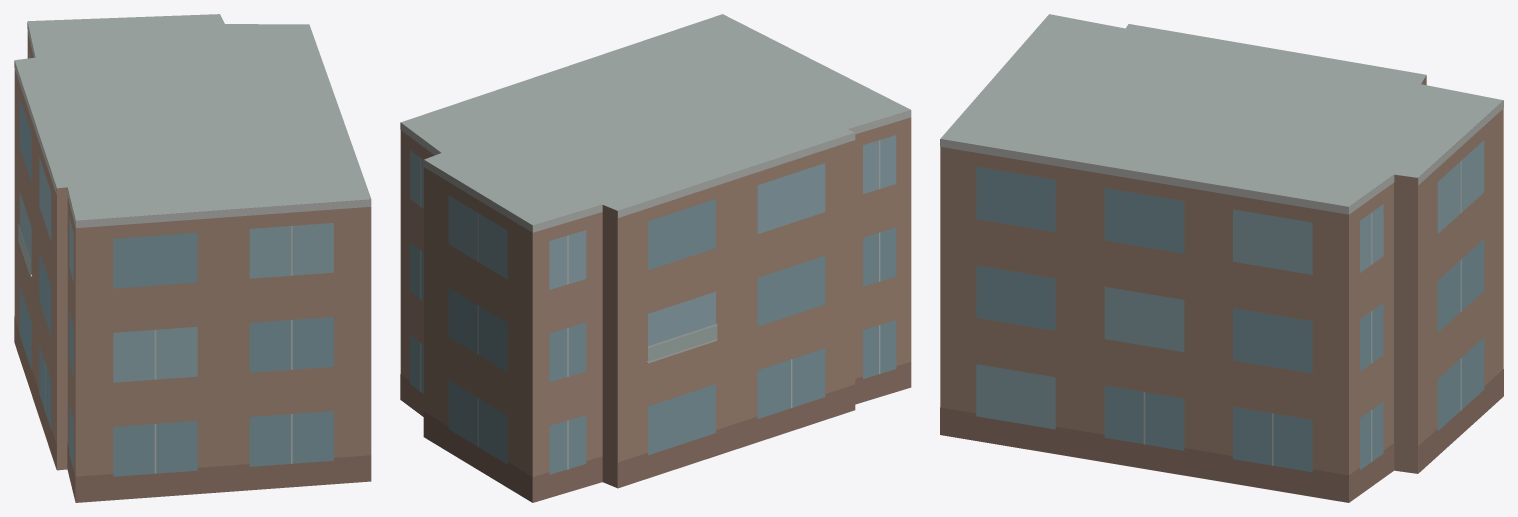
The model's file is survey-upis-32801205.glb.
3 views of the same model, side by side, from view 1: azimuth 30°, elevation 25°; view 2: azimuth 150°, elevation 25°; view 3: azimuth 270°, elevation 25° (orthographic). The views are drawn at different scales.
Parts seen in each view (by area): view 1: survey-upis-32801205.tmp; view 2: survey-upis-32801205.tmp; view 3: survey-upis-32801205.tmp.
Part boxes in pixels (left/top/right/bottom): survey-upis-32801205.tmp: left=14, top=14, right=371, bottom=502; survey-upis-32801205.tmp: left=400, top=14, right=911, bottom=502; survey-upis-32801205.tmp: left=940, top=14, right=1503, bottom=502.
Size of the model in its own units: 12.79 by 9.15 by 15.8.
